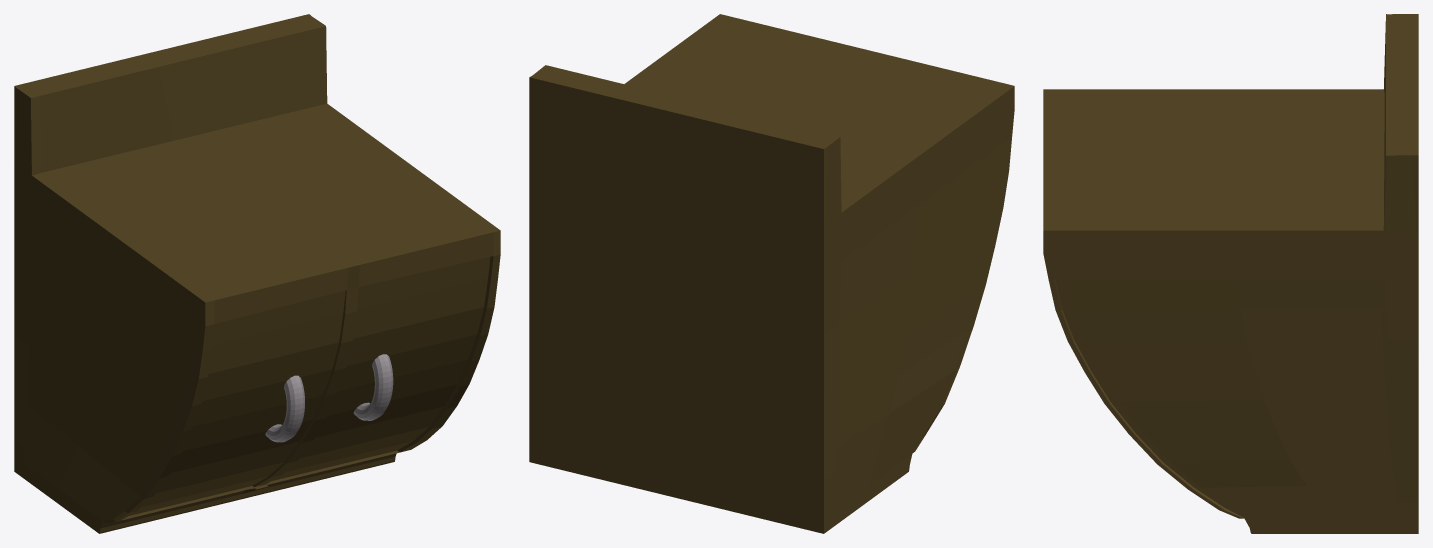
File: BaseTable.fbx
3 renders of one model, left to right at view 1: azimuth 30°, elevation 25°; view 2: azimuth 150°, elevation 25°; view 3: azimuth 270°, elevation 25°, orthographic.
Parts seen in each view (by area): view 1: Cube, Torus.001, Torus; view 2: Cube; view 3: Cube.
Part boxes in pixels (bbox=[...]): Cube: bbox=[14, 14, 500, 533]; Torus.001: bbox=[265, 375, 304, 442]; Torus: bbox=[353, 354, 393, 420]; Cube: bbox=[529, 14, 1014, 533]; Cube: bbox=[1043, 14, 1418, 533].
Size of the model in its own units: 203 by 250 by 224.
